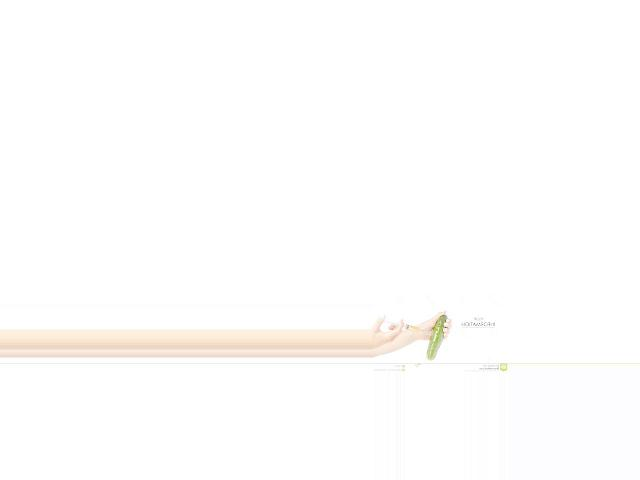cucumber: (426, 314, 446, 360)
